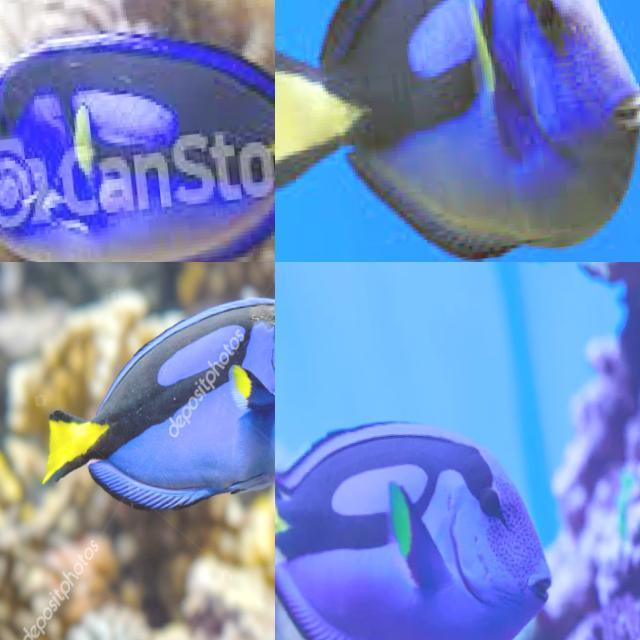BlueTang: (275, 0, 640, 262), (275, 377, 574, 640), (11, 262, 275, 556), (0, 0, 275, 262)
